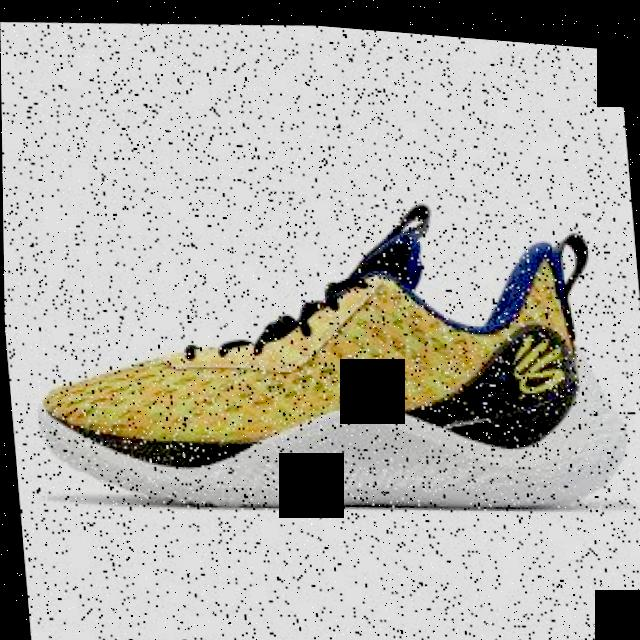shoe: (14, 162, 634, 545)
